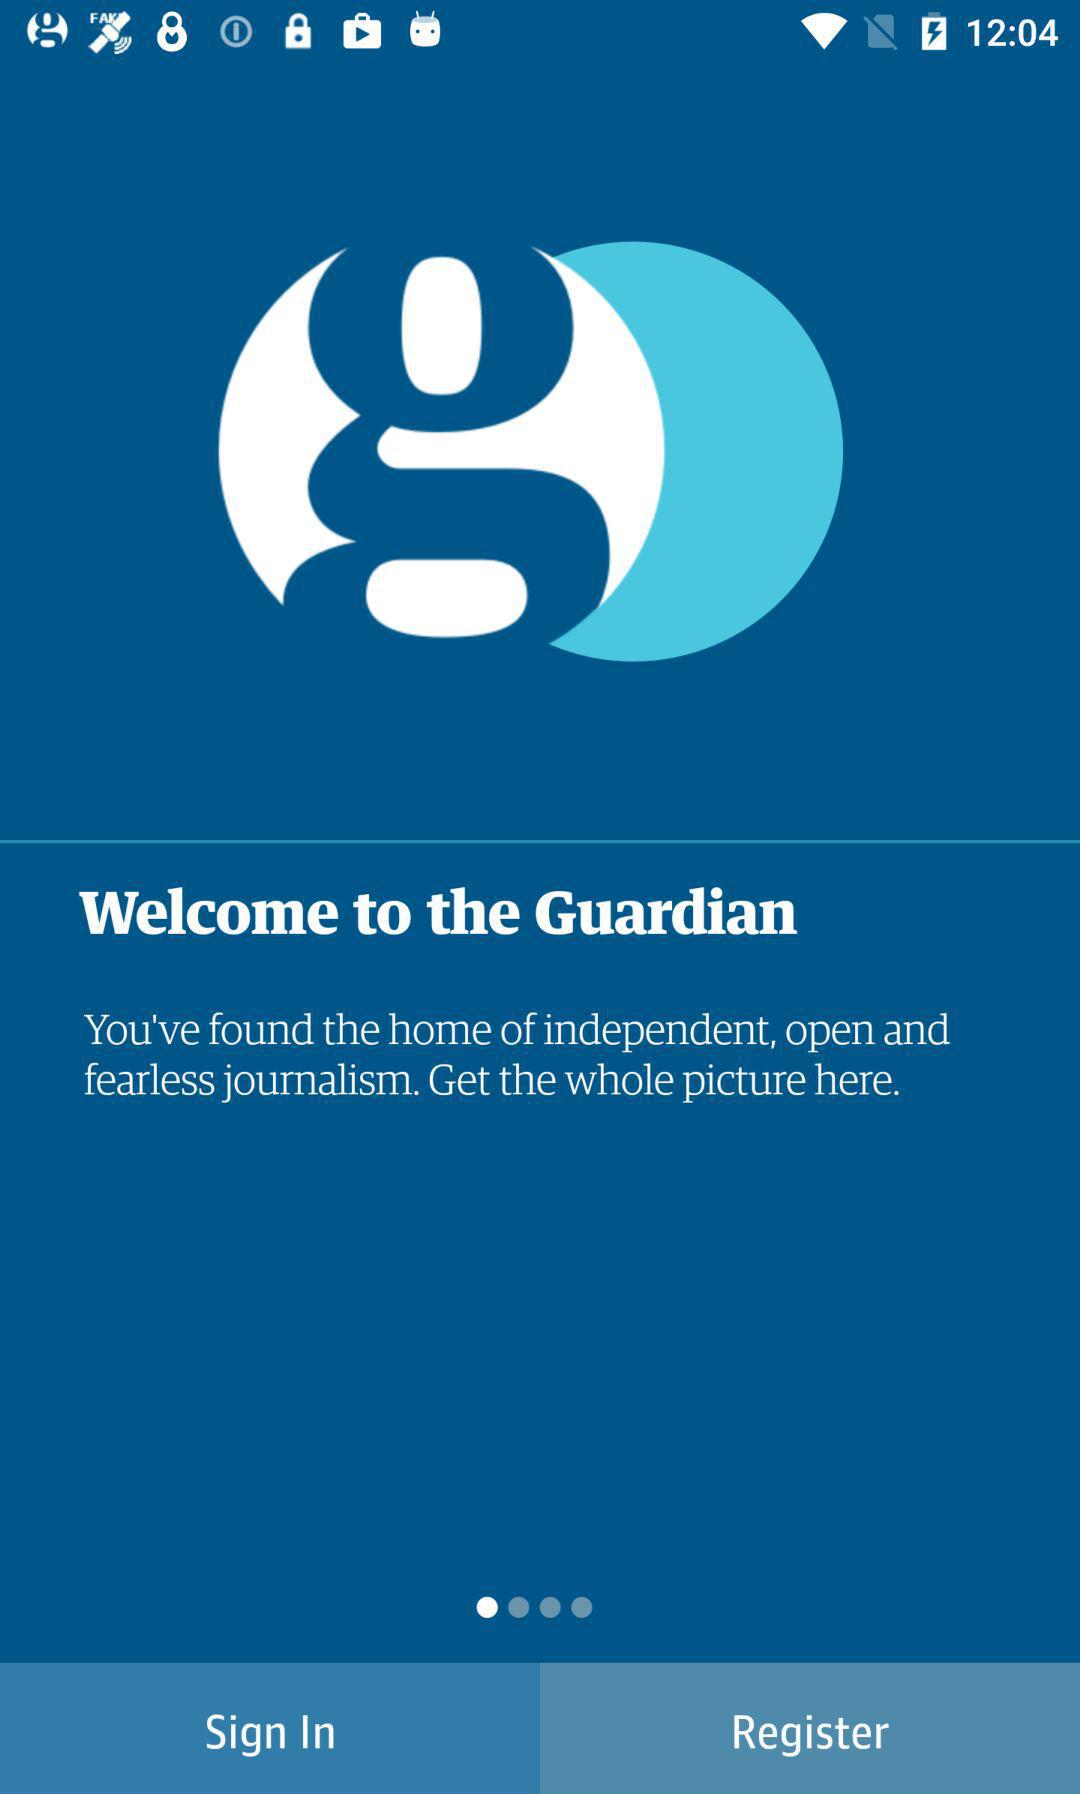Image: (218, 240, 846, 664)
PageIndicator: (477, 1595, 594, 1620)
Text: (85, 1011, 951, 1105), (79, 885, 799, 937)
TextButton: (1, 1665, 541, 1794), (541, 1665, 1080, 1794)
UpperTaskBar: (1, 1, 1080, 64)
